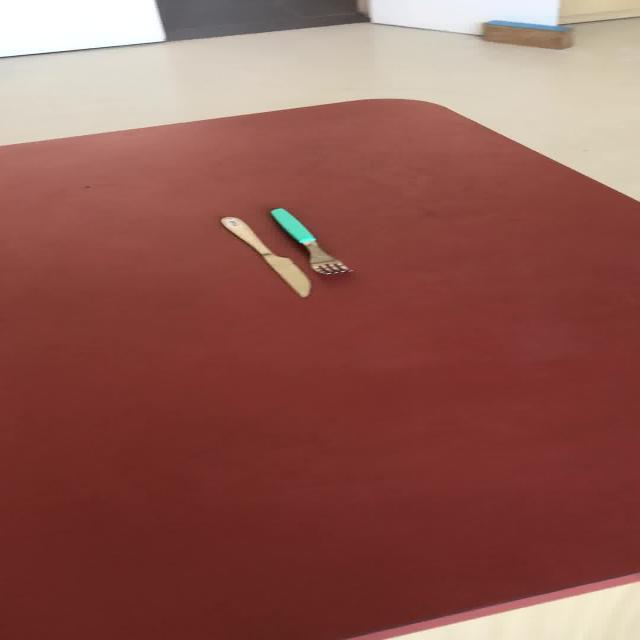fork: (269, 207, 353, 275)
knife fork: (219, 215, 311, 298)
